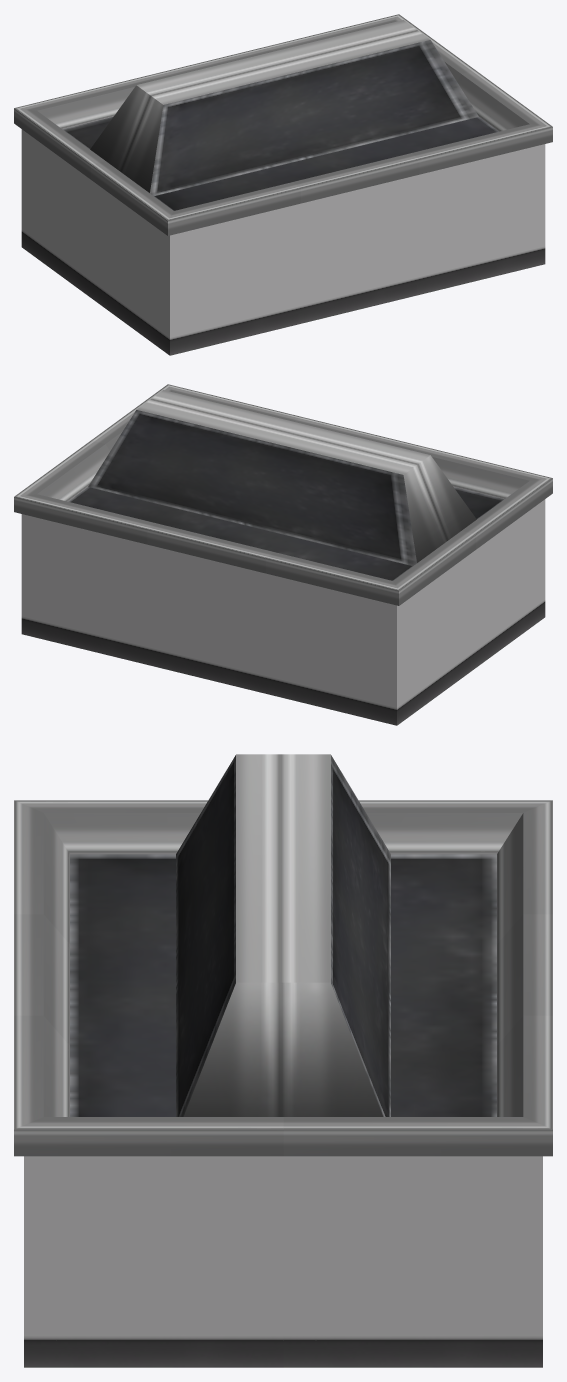
The model's file is Produce_Shelf.fbx.
The picture shows the model from 3 angles, top to bottom: view 1: azimuth 30°, elevation 25°; view 2: azimuth 150°, elevation 25°; view 3: azimuth 270°, elevation 25°; orthographic projection. The views are drawn at different scales.
Parts seen in each view (by area): view 1: Produce_Shelf; view 2: Produce_Shelf; view 3: Produce_Shelf.
Boxes of the visible parts, box(x1,y1,x2,y2) form: Produce_Shelf: box(14, 14, 552, 355); Produce_Shelf: box(14, 384, 552, 725); Produce_Shelf: box(14, 754, 552, 1367).
Bounding box in the file's own units: 299 × 143 × 207.
